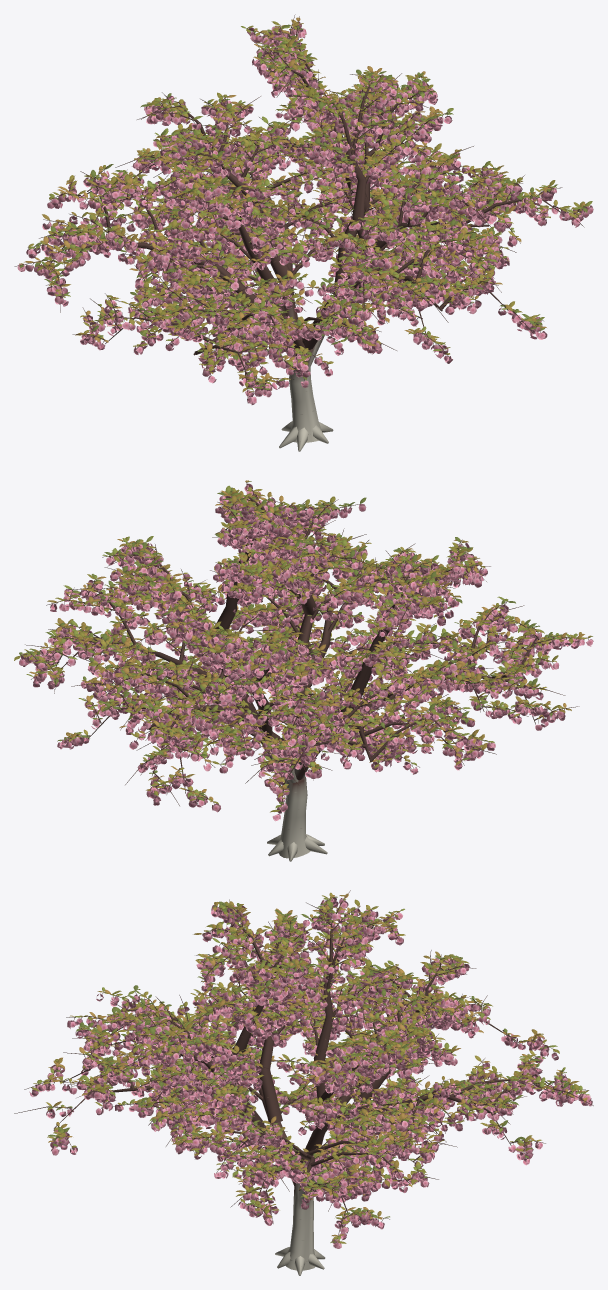
Rendered from sakura_tree_as06_01.glb.
The picture shows the model from 3 angles, top to bottom: view 1: azimuth 30°, elevation 25°; view 2: azimuth 150°, elevation 25°; view 3: azimuth 270°, elevation 25°; orthographic projection. The views are drawn at different scales.
Parts seen in each view (by area): view 1: AS06_DoubleFlowers, AS06_BronzeLeaves, AS06_Twigs, AS06_Bark; view 2: AS06_DoubleFlowers, AS06_BronzeLeaves, AS06_Twigs, AS06_Bark; view 3: AS06_DoubleFlowers, AS06_BronzeLeaves, AS06_Twigs, AS06_Bark.
Part boxes in pixels (x1,y1,x2,y2): AS06_DoubleFlowers: (17, 21, 593, 404); AS06_BronzeLeaves: (19, 17, 592, 393); AS06_Twigs: (14, 14, 589, 441); AS06_Bark: (106, 109, 489, 451); AS06_DoubleFlowers: (19, 483, 593, 821); AS06_BronzeLeaves: (14, 480, 592, 812); AS06_Twigs: (20, 482, 588, 852); AS06_Bark: (123, 536, 519, 861); AS06_DoubleFlowers: (29, 897, 592, 1248); AS06_BronzeLeaves: (31, 892, 589, 1243); AS06_Twigs: (14, 890, 593, 1266); AS06_Bark: (112, 960, 489, 1275).
Bounding box in the file's own units: 6.52 × 4.49 × 6.51.
Materials: 4 (1 with a texture image).
